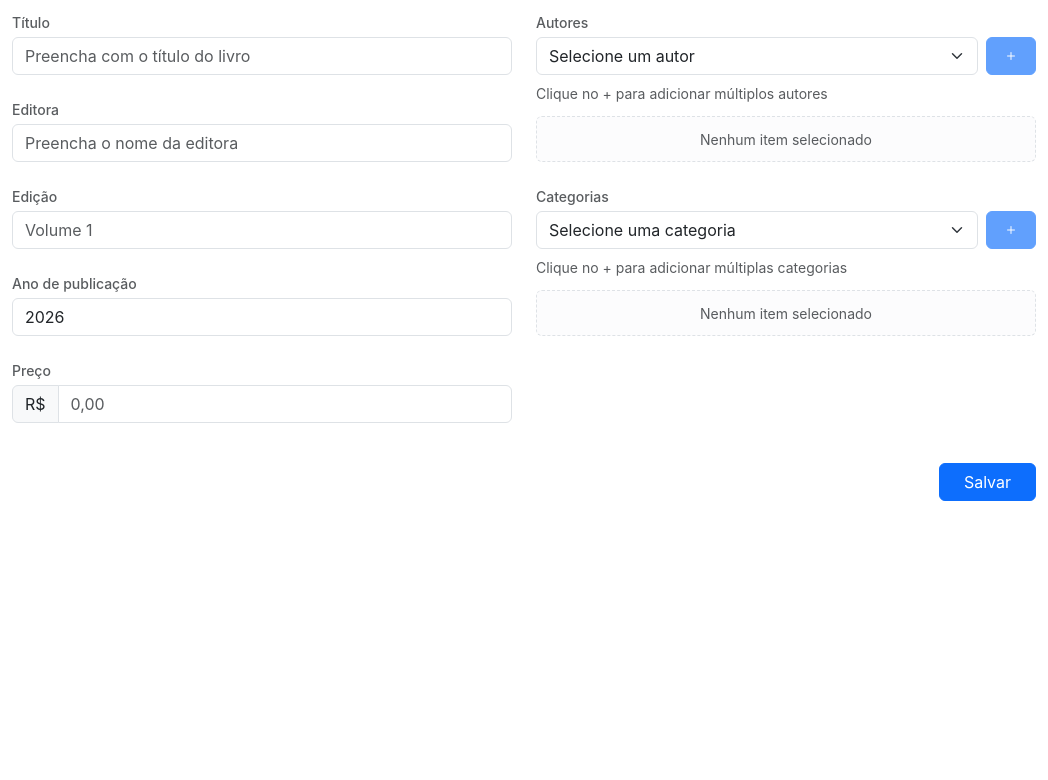
Test: BookForm › should validate required fields
This screenshot has width=1048, height=780.
What coordinates should you click on to do the following:
click the button "Salvar"
I would click on:
 (987, 482)
Its box is [939,463,1036,501].
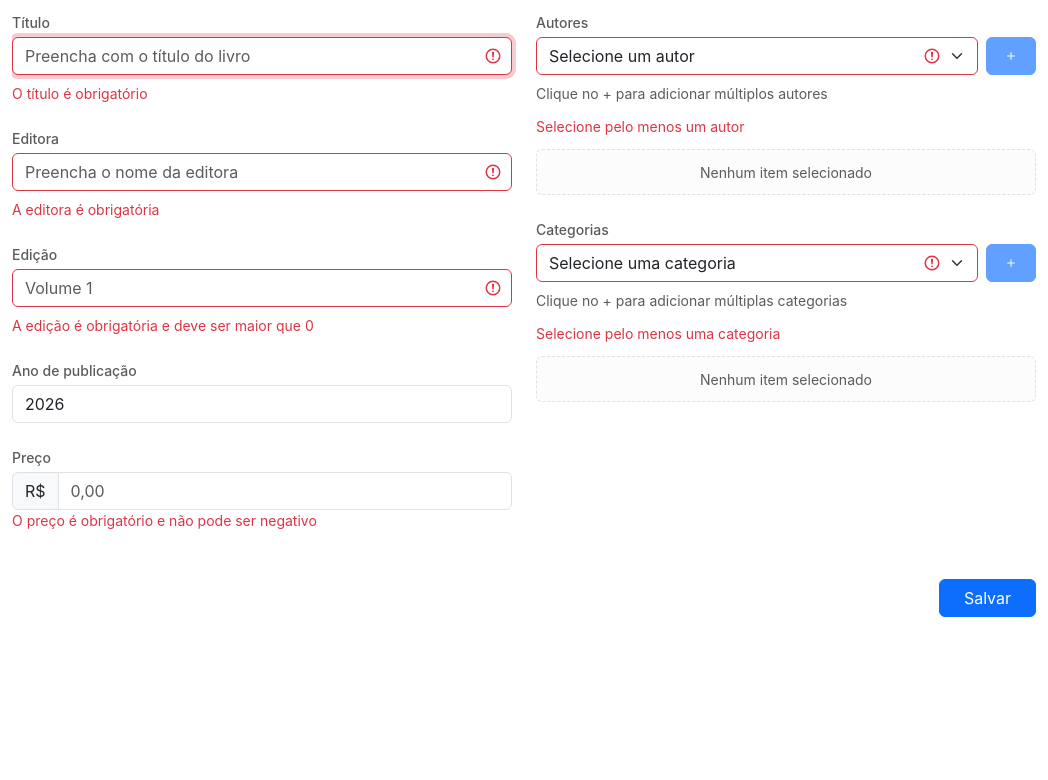
Result: the text "O título é obrigatório" is shown at [12,85,148,102]
Result: the text "A editora é obrigatória" is shown at [12,201,159,218]
Result: the text "A edição é obrigatória e deve ser maior que 0" is shown at [12,317,314,334]
